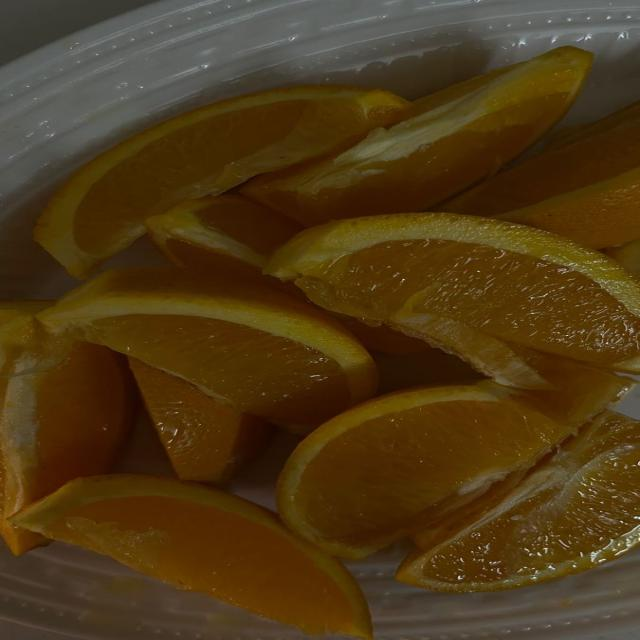orange: (35, 85, 410, 277), (267, 214, 639, 388), (242, 47, 592, 226), (13, 476, 371, 638), (39, 268, 377, 428), (277, 383, 572, 558), (397, 413, 639, 591), (0, 342, 131, 554), (439, 103, 639, 215), (129, 358, 273, 484), (146, 195, 304, 298), (146, 195, 302, 275), (496, 167, 639, 248), (513, 350, 635, 427), (512, 351, 634, 427), (0, 301, 66, 376), (374, 349, 483, 394), (606, 240, 639, 277)
